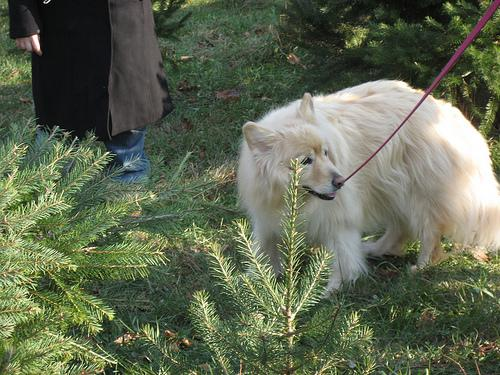dog-samoyed: (240, 91, 343, 199)
